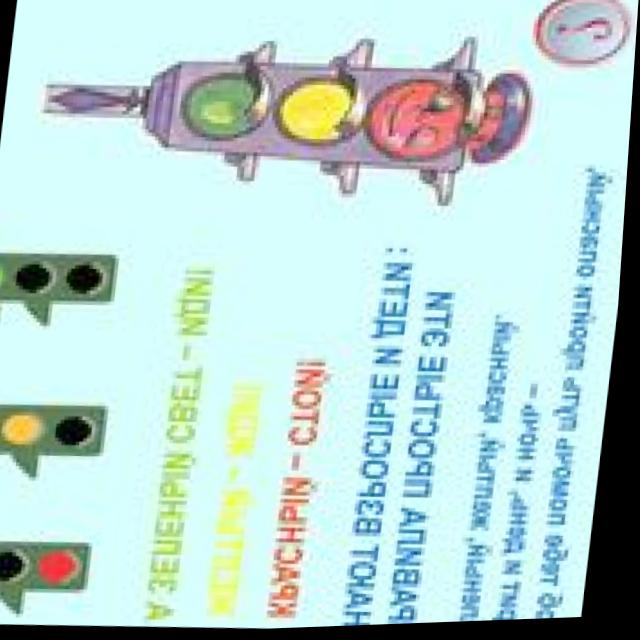green_light: (0, 191, 21, 333)
red_light: (36, 533, 110, 606)
yellow_light: (0, 372, 62, 471)
